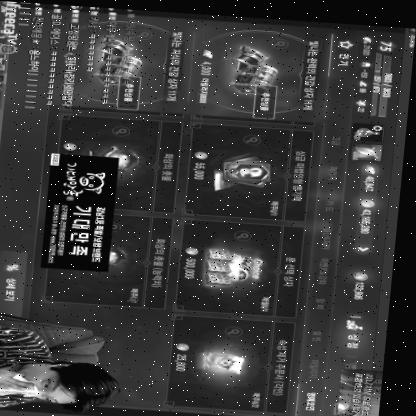streamer: (0, 319, 134, 416)
